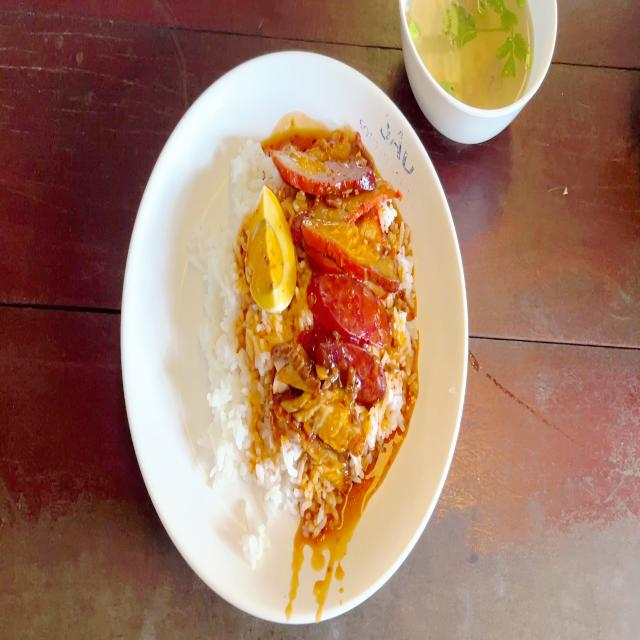boiled_egg: (251, 188, 292, 305)
chainese_sausage: (311, 276, 383, 390)
crispy_pork: (298, 396, 363, 480)
red_pork: (307, 200, 382, 276), (275, 154, 380, 192)
red_pork_and_crispy_pork: (209, 140, 405, 498)
rice: (211, 207, 245, 466), (227, 146, 276, 188), (248, 392, 267, 483)
